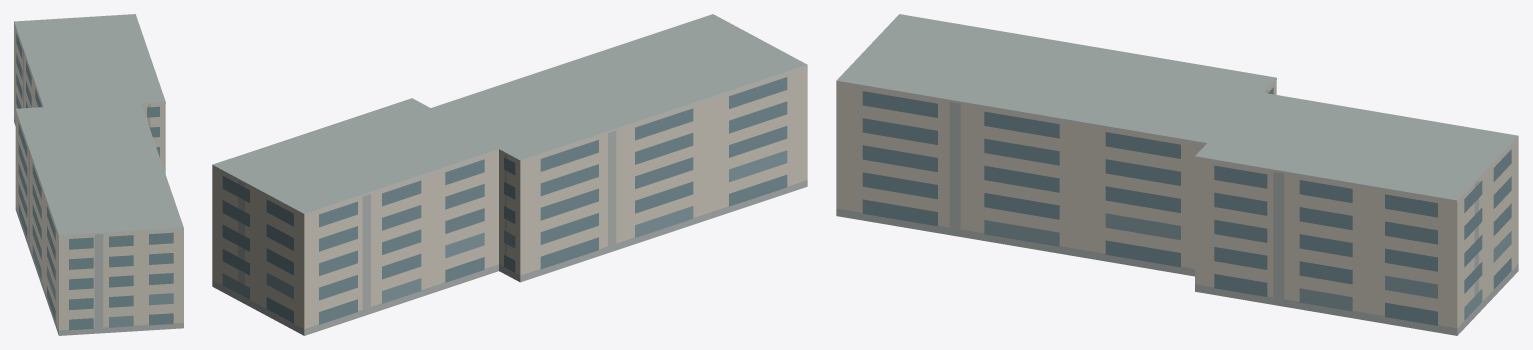
File: residential-b9a46729-0c87-4b47-8b13-1c79ced405c0.glb
3 views of the same model, side by side, from view 1: azimuth 30°, elevation 25°; view 2: azimuth 150°, elevation 25°; view 3: azimuth 270°, elevation 25° (orthographic). The views are drawn at different scales.
Visible parts, largest first — view 1: residential-b9a46729-0c87-4b47-8b13-1c79ced405c0.tmp; view 2: residential-b9a46729-0c87-4b47-8b13-1c79ced405c0.tmp; view 3: residential-b9a46729-0c87-4b47-8b13-1c79ced405c0.tmp.
Part boxes in pixels (bbox=[...]): residential-b9a46729-0c87-4b47-8b13-1c79ced405c0.tmp: bbox=[14, 14, 183, 335]; residential-b9a46729-0c87-4b47-8b13-1c79ced405c0.tmp: bbox=[212, 14, 807, 335]; residential-b9a46729-0c87-4b47-8b13-1c79ced405c0.tmp: bbox=[836, 14, 1518, 335].
Bounding box in the file's own units: 45.05 × 15.25 × 69.62.
